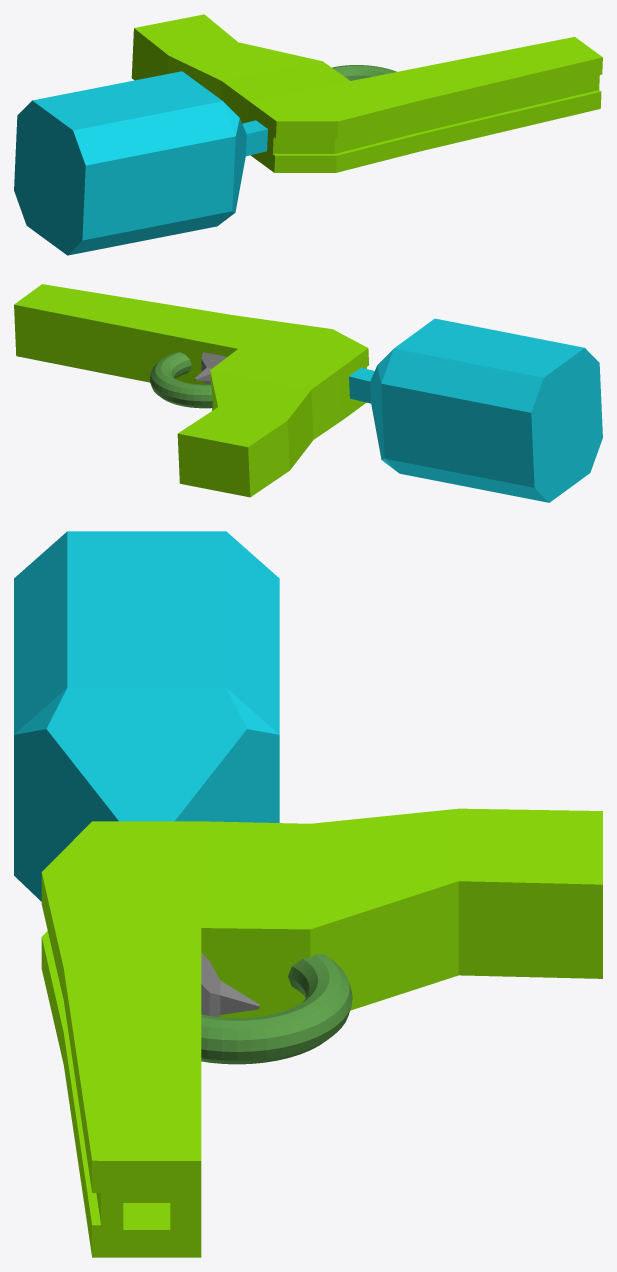
The model's file is PISTOL1.fbx.
The picture shows the model from 3 angles, top to bottom: view 1: azimuth 30°, elevation 25°; view 2: azimuth 150°, elevation 25°; view 3: azimuth 270°, elevation 25°; orthographic projection. The views are drawn at different scales.
Visible parts, largest first — view 1: pistol.001; view 2: pistol.001; view 3: pistol.001.
Boxes of the visible parts, x1=… form: pistol.001: x1=14, y1=14, x2=602, y2=255; pistol.001: x1=14, y1=284, x2=602, y2=502; pistol.001: x1=14, y1=531, x2=602, y2=1257.
Size of the model in its own units: 181 by 41.9 by 87.8.
